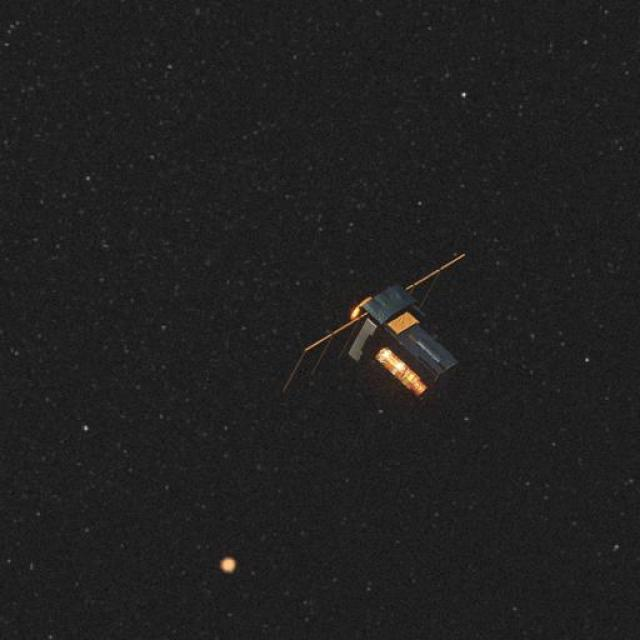soho: (273, 238, 479, 424)
